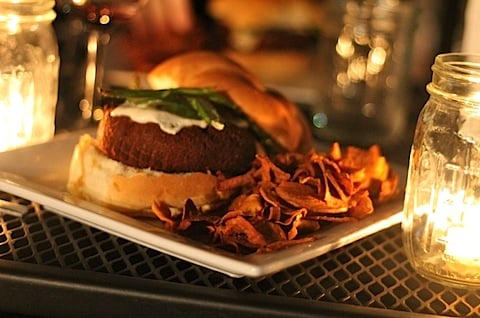pizza: (401, 51, 480, 291)
soup: (66, 34, 314, 214), (146, 49, 313, 155)
